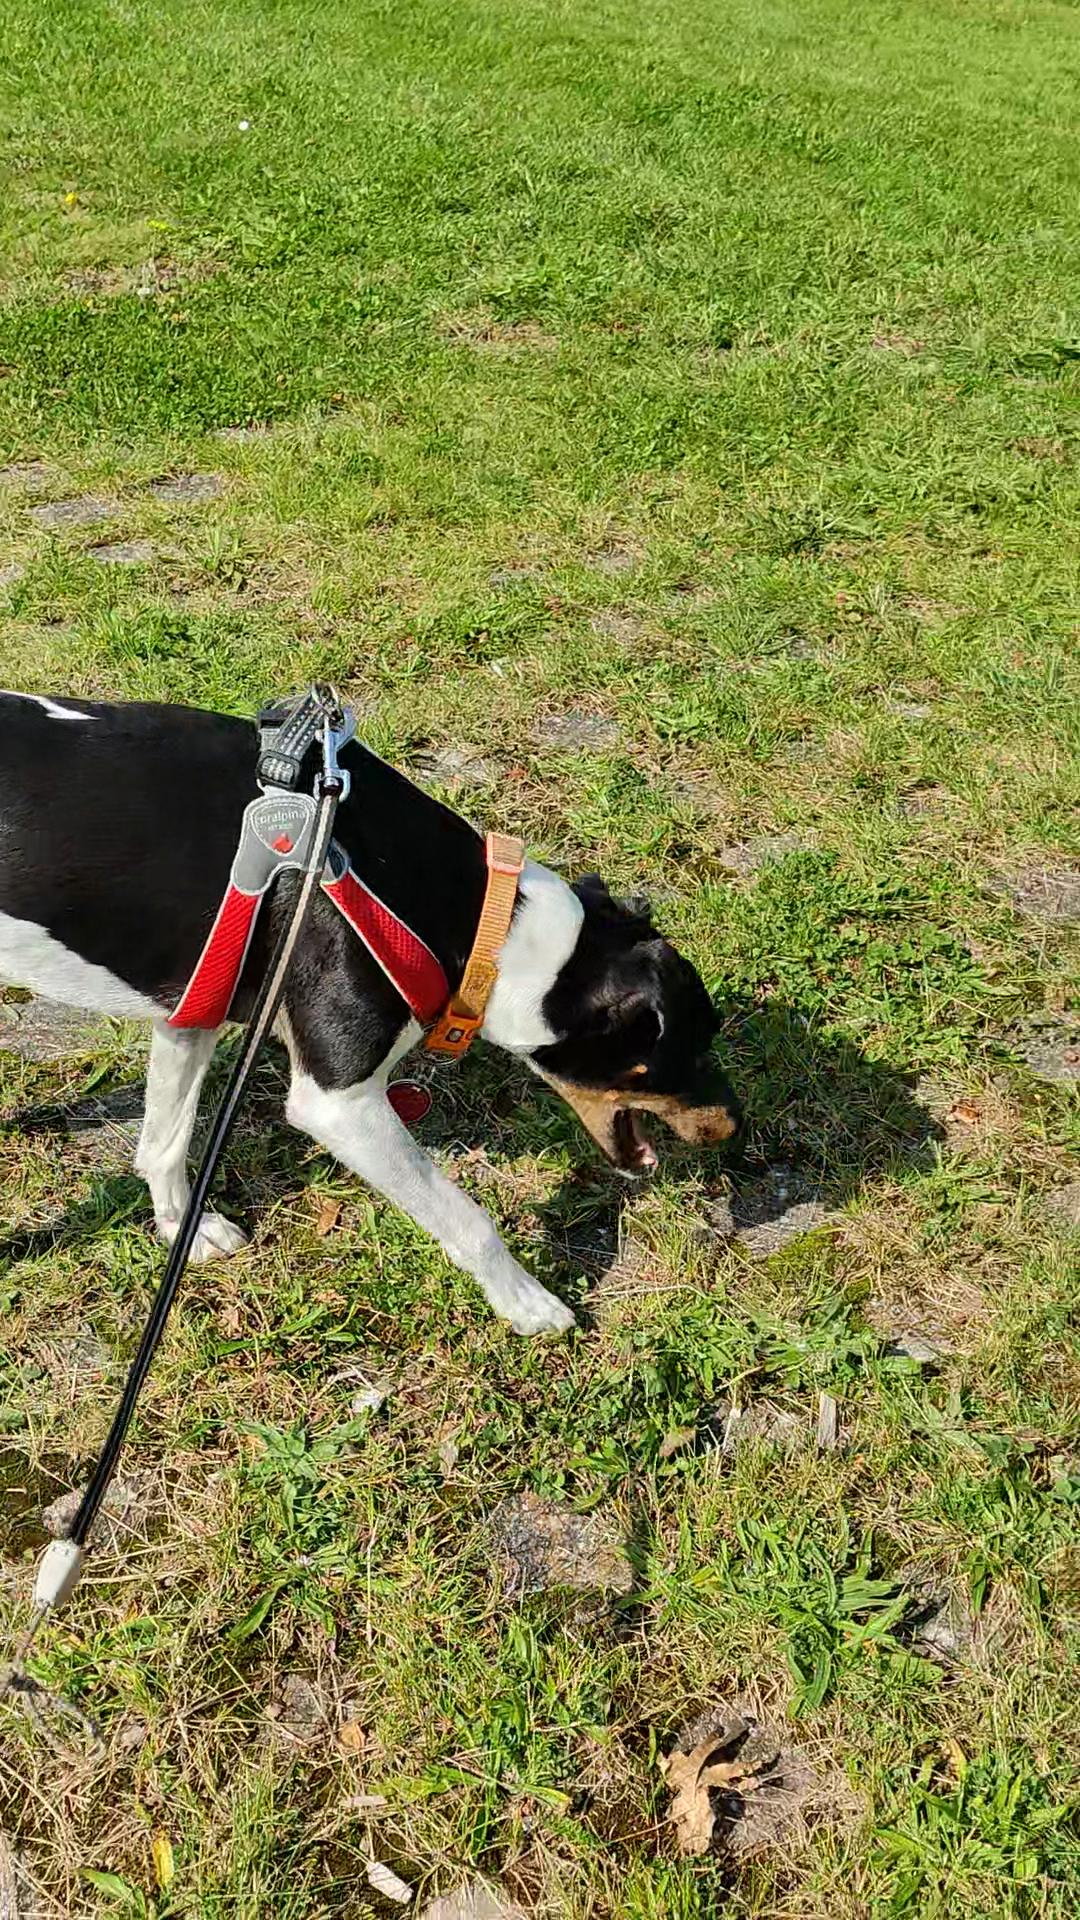Dog: (0, 659, 767, 1353)
